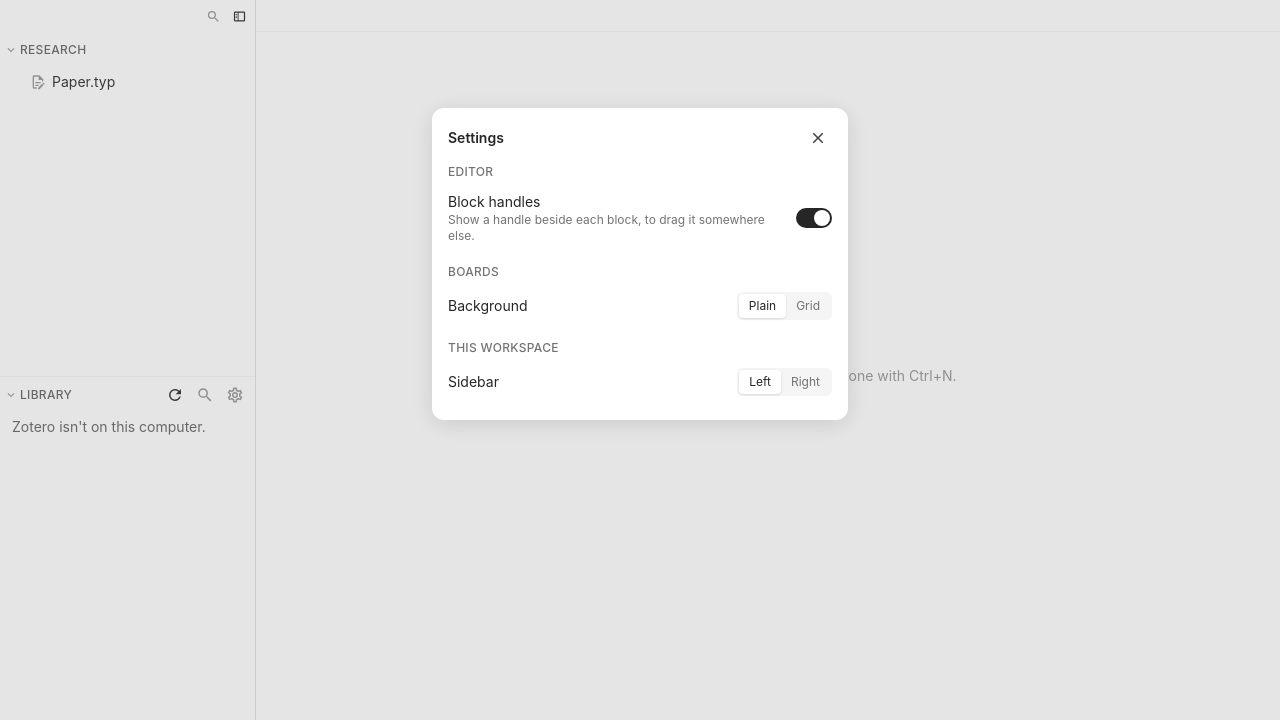
The settings panel › closes with its close button
Expected: the heading "Research" is shown, x1=4 y1=40 x2=161 y2=60
Click the button named "Close". click: {"x": 818, "y": 138}
box: x1=804 y1=124 x2=832 y2=152
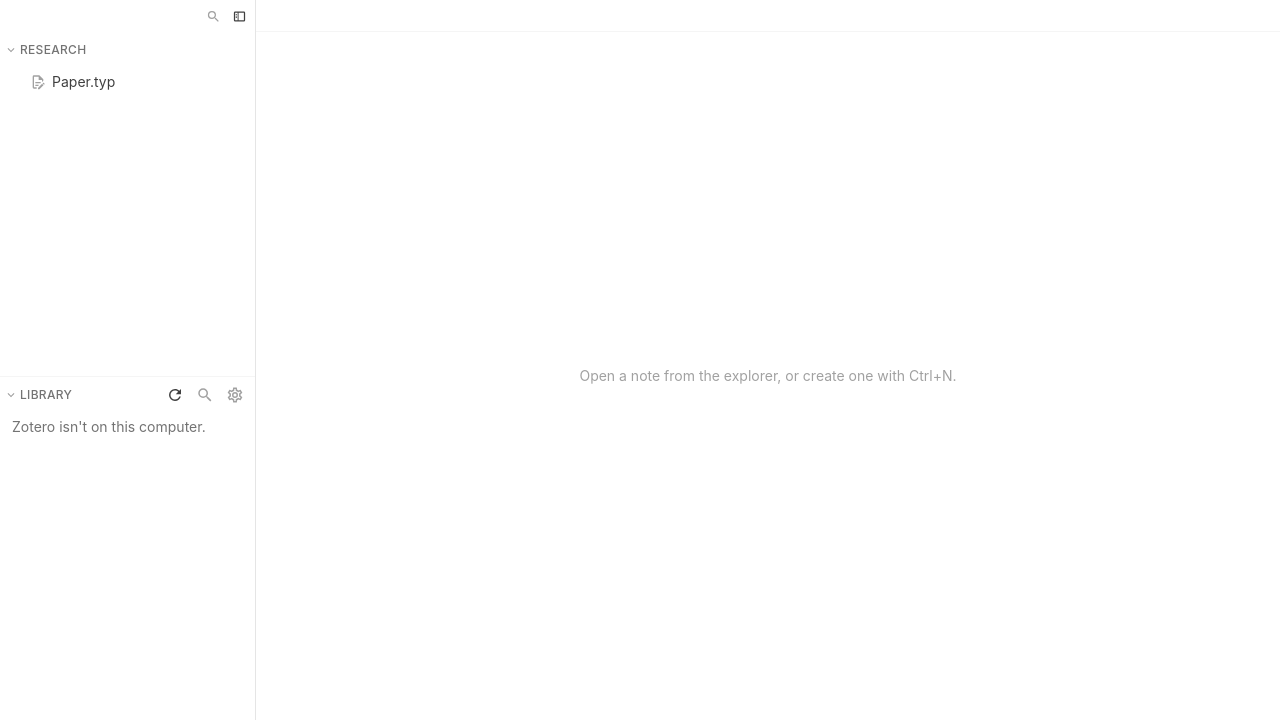
Expected: the heading "Settings" is gone
